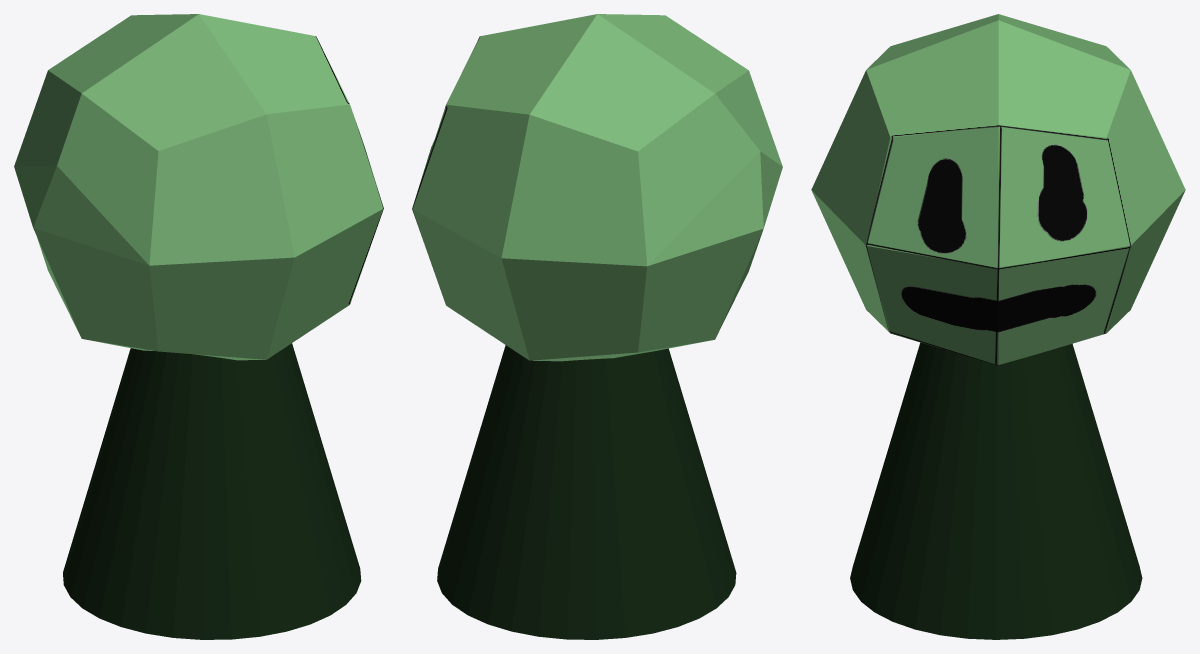
The model's file is person.obj.
3 views of the same model, side by side, from view 1: azimuth 30°, elevation 25°; view 2: azimuth 150°, elevation 25°; view 3: azimuth 270°, elevation 25° (orthographic). The views are drawn at different scales.
Parts seen in each view (by area): view 1: Cube, Cylinder; view 2: Cube, Cylinder; view 3: Cube, Cylinder.
Boxes of the visible parts, x1,y1,x2,y2 form: Cube: (14,14,383,360); Cylinder: (63,343,361,639); Cube: (412,14,782,361); Cylinder: (437,345,736,639); Cube: (811,14,1185,365); Cylinder: (850,342,1142,639).
Bounding box in the file's own units: 3.46 × 5.64 × 3.46.
